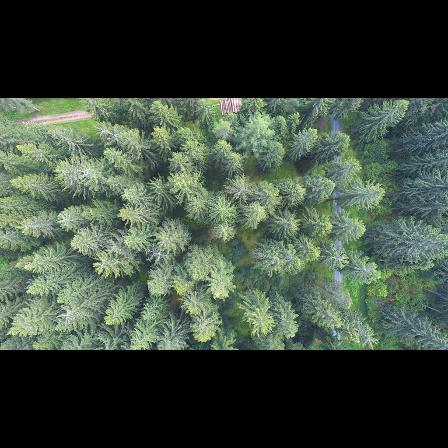Sick: (146, 246, 172, 266), (105, 125, 124, 148), (92, 259, 112, 276), (56, 210, 74, 228)
